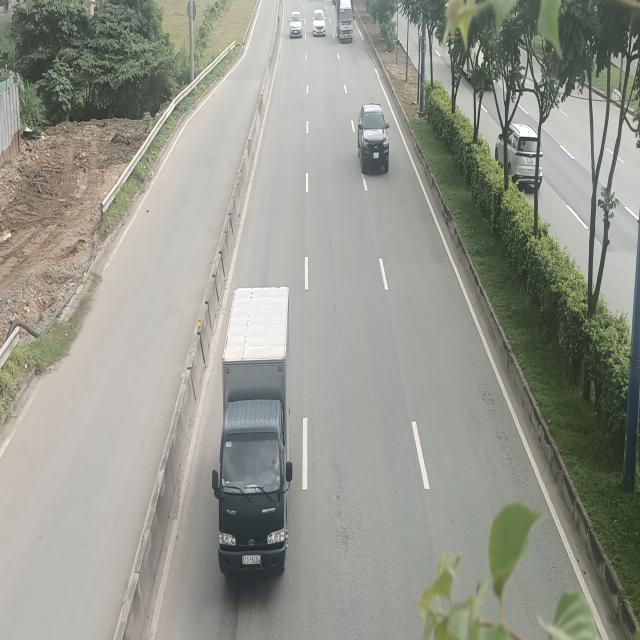car: (356, 105, 389, 172)
truck: (213, 288, 297, 580), (337, 0, 355, 42)
